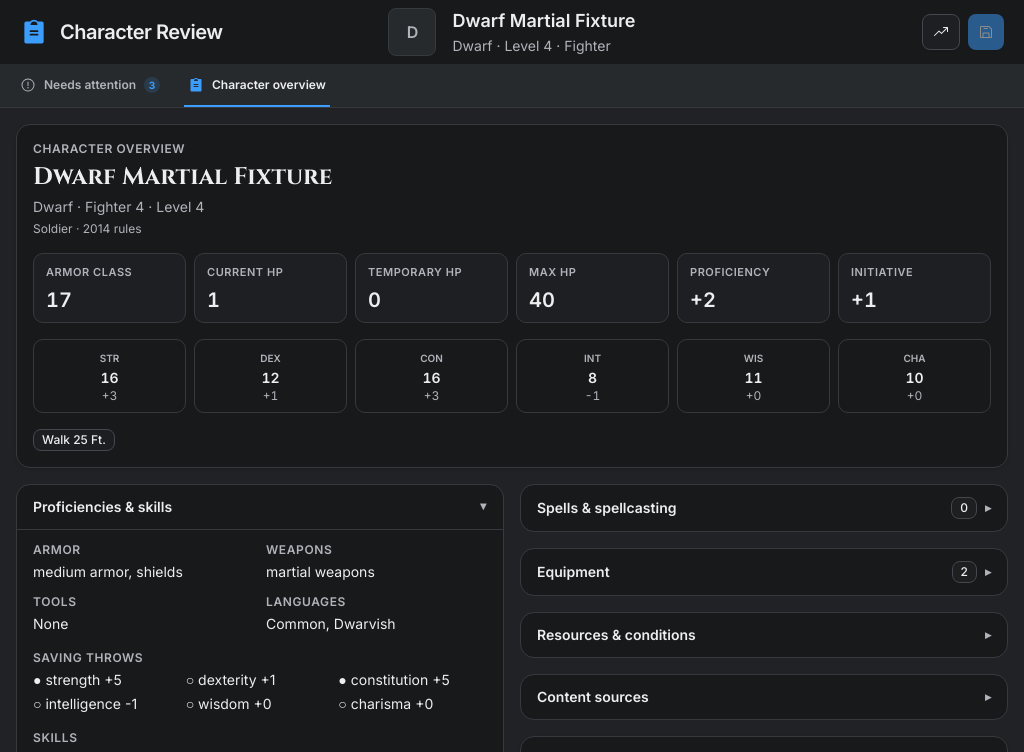
Test: representative character consumers › 2014 dwarf martial with racial Constitution and 25-foot speed
The image size is (1024, 752).
Expected: the text with test id "review-movement-walk" shows "25", [73,432,88,447]
Click the tab "Needs attention 3" at (90, 86), box [16,64,164,107]
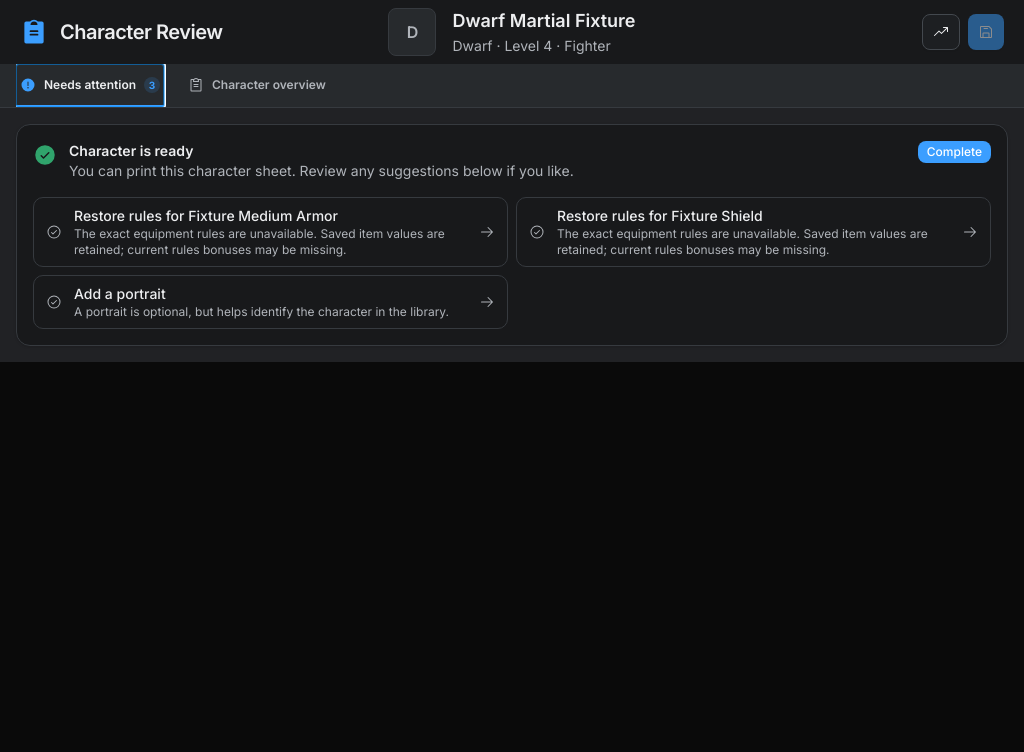
Result: the heading "Character is ready" is shown at [69,142,193,159]
